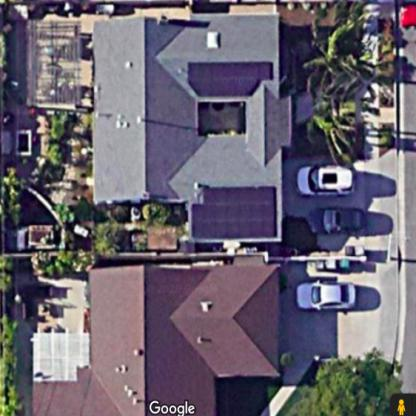car: (291, 273, 361, 311), (297, 159, 357, 198), (306, 206, 372, 239)
solar_panel: (186, 178, 285, 245), (184, 54, 279, 102)
